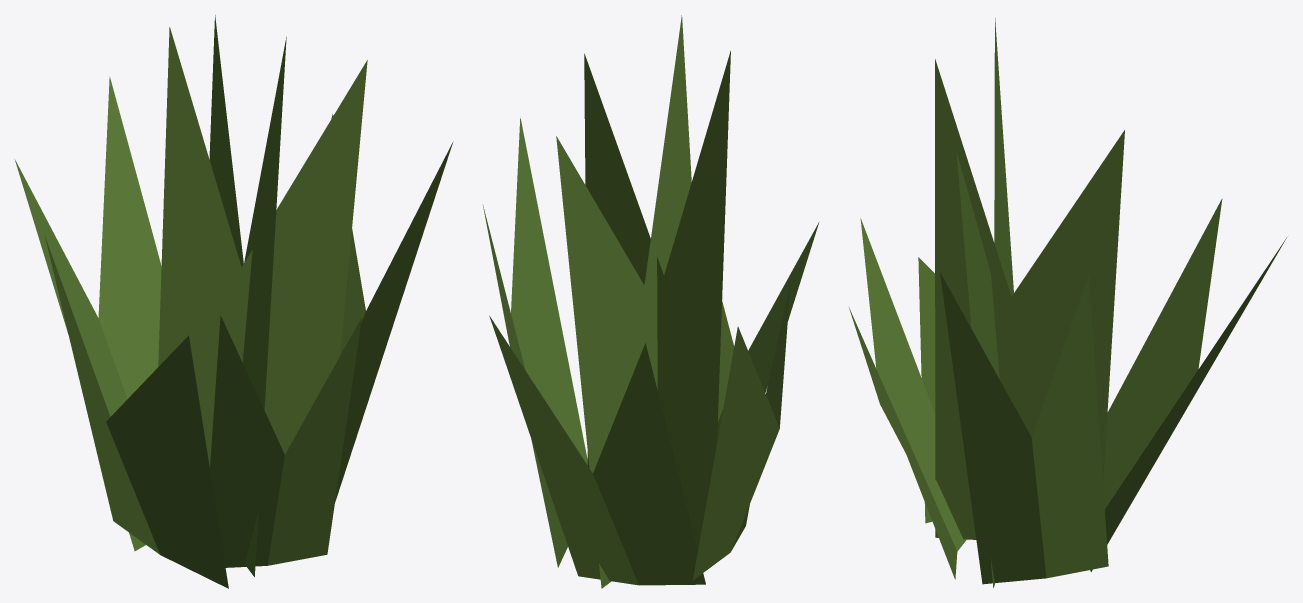
Rendered from Grass.fbx.
3 renders of one model, left to right at view 1: azimuth 30°, elevation 25°; view 2: azimuth 150°, elevation 25°; view 3: azimuth 270°, elevation 25°, orthographic. The views are drawn at different scales.
Visible parts, largest first — view 1: Grass_2_1; view 2: Grass_2_1; view 3: Grass_2_1.
Part boxes in pixels (<box>): Grass_2_1: <box>14,15,453,588</box>; Grass_2_1: <box>482,15,819,588</box>; Grass_2_1: <box>849,18,1286,587</box>.
Bounding box in the file's own units: 60.1 × 99.25 × 77.37.
